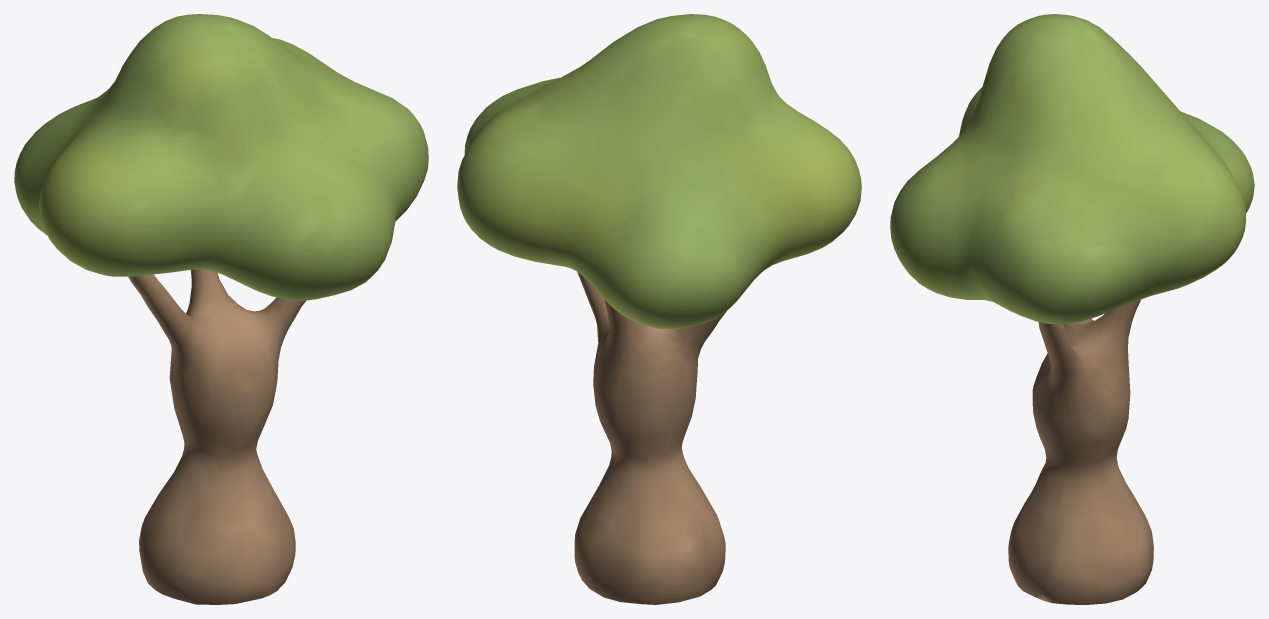
File: tree_fast.glb
3 renders of one model, left to right at view 1: azimuth 30°, elevation 25°; view 2: azimuth 150°, elevation 25°; view 3: azimuth 270°, elevation 25°, orthographic. The views are drawn at different scales.
Parts seen in each view (by area): view 1: canopy, body; view 2: canopy, body; view 3: canopy, body.
Part boxes in pixels (bbox=[...]): canopy: bbox=[14, 14, 428, 300]; body: bbox=[128, 269, 305, 604]; canopy: bbox=[457, 14, 861, 328]; body: bbox=[574, 271, 726, 604]; canopy: bbox=[890, 14, 1254, 324]; body: bbox=[1008, 299, 1153, 604].
Bounding box in the file's own units: 3.17 × 4.68 × 2.79.
